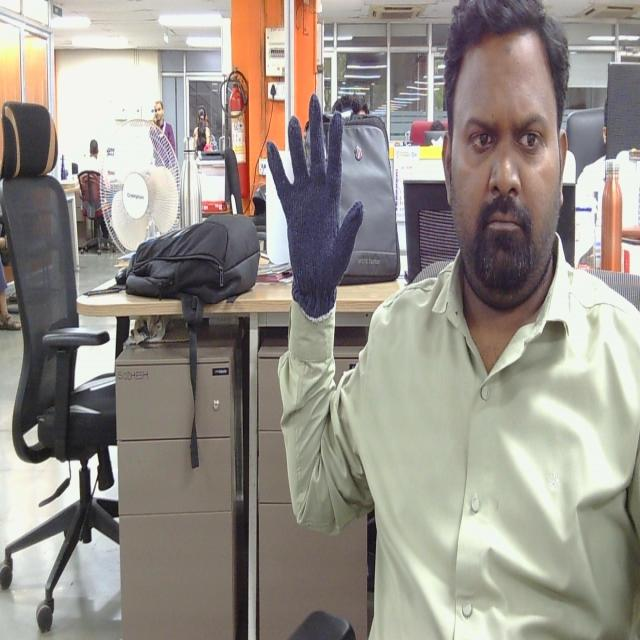Gloves-Detection: (261, 95, 364, 319)
